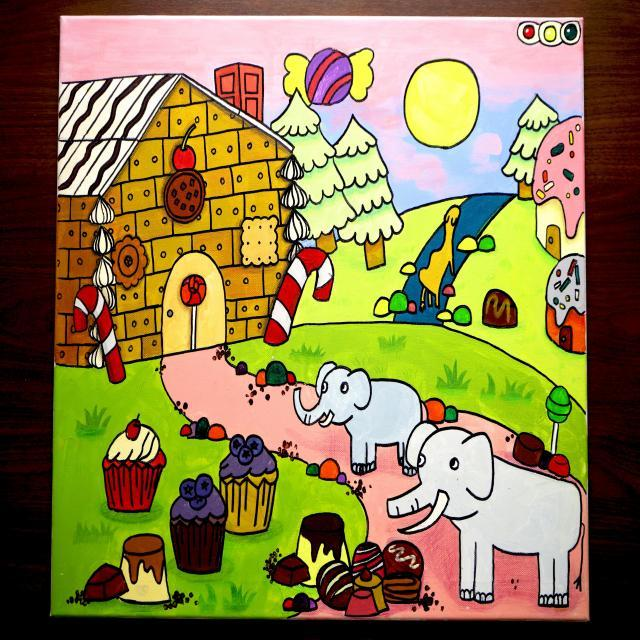painting: (51, 17, 588, 620)
